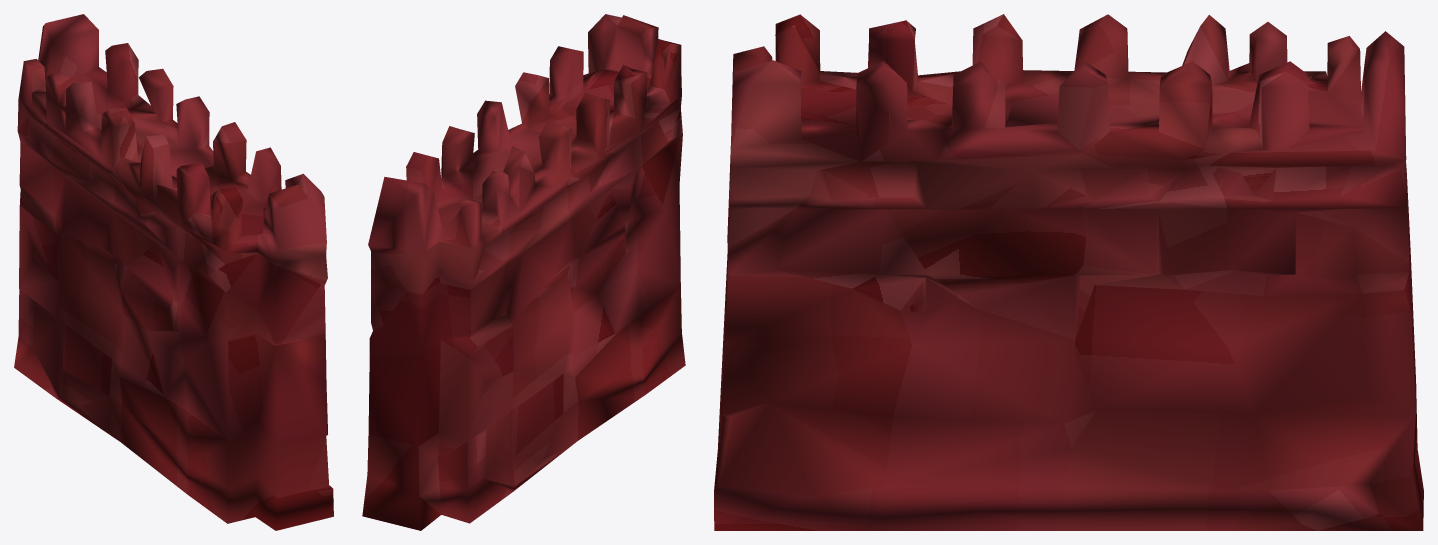
Rendered from castle_wall_diamond_red_lo.glb.
3 renders of one model, left to right at view 1: azimuth 30°, elevation 25°; view 2: azimuth 150°, elevation 25°; view 3: azimuth 270°, elevation 25°, orthographic. The views are drawn at different scales.
Visible parts, largest first — view 1: tripo_node_06179193-1344-4d8b-99e5-17598ad9e9df; view 2: tripo_node_06179193-1344-4d8b-99e5-17598ad9e9df; view 3: tripo_node_06179193-1344-4d8b-99e5-17598ad9e9df.
Part boxes in pixels (box(x1,y1,x2,y2)): tripo_node_06179193-1344-4d8b-99e5-17598ad9e9df: box(14, 14, 333, 530); tripo_node_06179193-1344-4d8b-99e5-17598ad9e9df: box(362, 14, 685, 530); tripo_node_06179193-1344-4d8b-99e5-17598ad9e9df: box(714, 14, 1423, 530).
Bounding box in the file's own units: 0.2068 × 0.7075 × 0.9771.
Materials: 1 (1 with a texture image).
